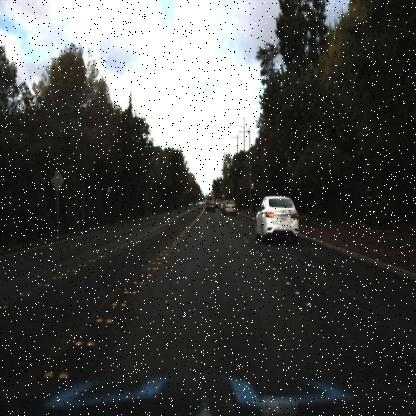car: (252, 193, 301, 251), (223, 197, 238, 219), (204, 196, 216, 212)
